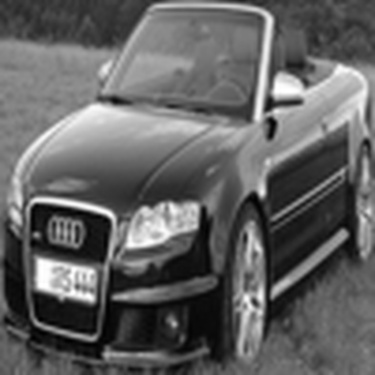car: (1, 26, 373, 374)
